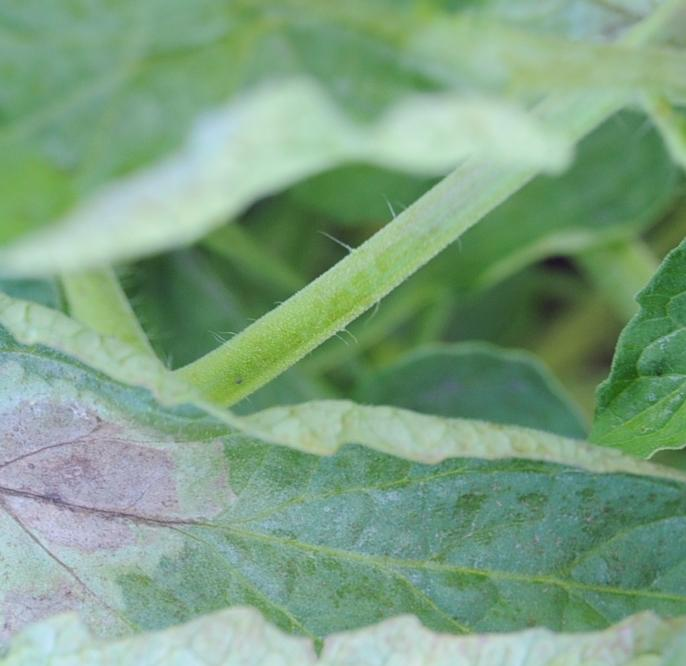Tomato leaf late blight: (0, 208, 686, 666)
